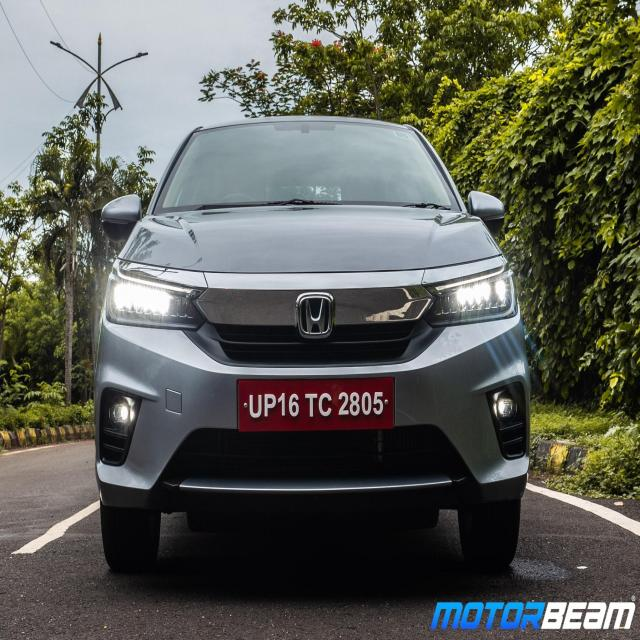number_plate: (239, 384, 393, 424)
